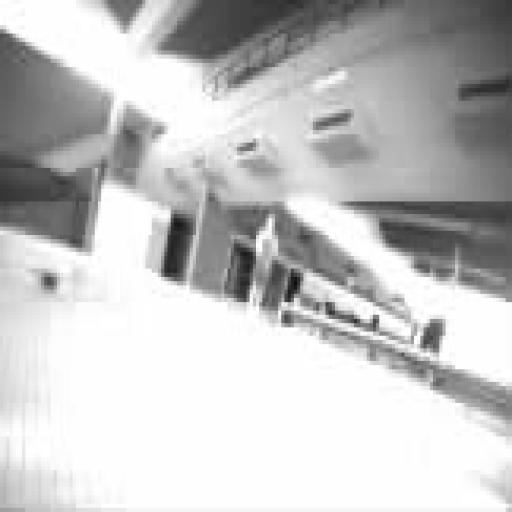human: (250, 215, 278, 306), (417, 282, 448, 354)
